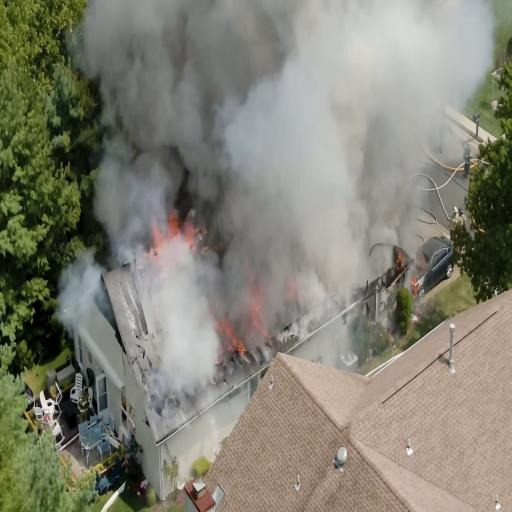smoke: (236, 0, 476, 139), (233, 71, 334, 259), (109, 0, 226, 159), (332, 124, 416, 284), (152, 259, 226, 381)
